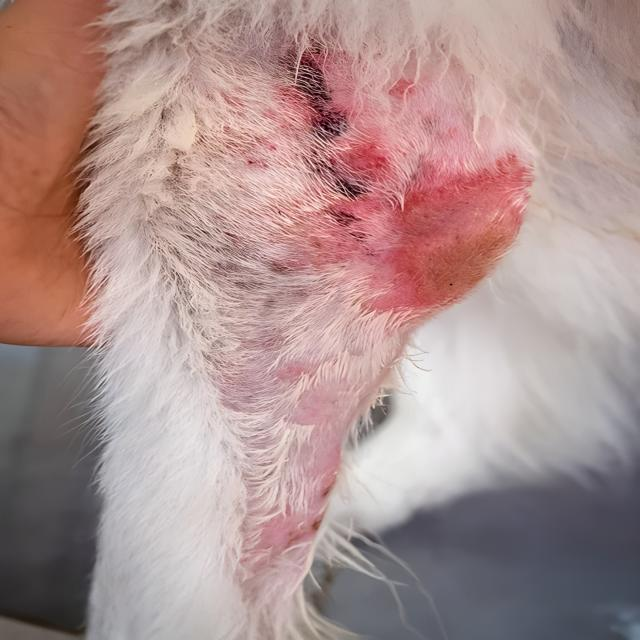hac lao: (174, 38, 526, 572)
